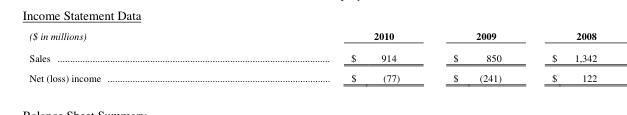table: (28, 28, 596, 83)
table column: (225, 28, 425, 83), (28, 28, 225, 83), (425, 28, 525, 83), (525, 28, 596, 83)
table column header: (28, 28, 596, 46)
table row: (28, 46, 596, 67), (28, 28, 596, 46), (28, 67, 596, 83)
